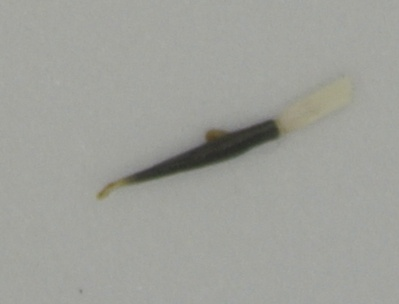เมล็ดงอกแตก: (94, 74, 359, 203)
